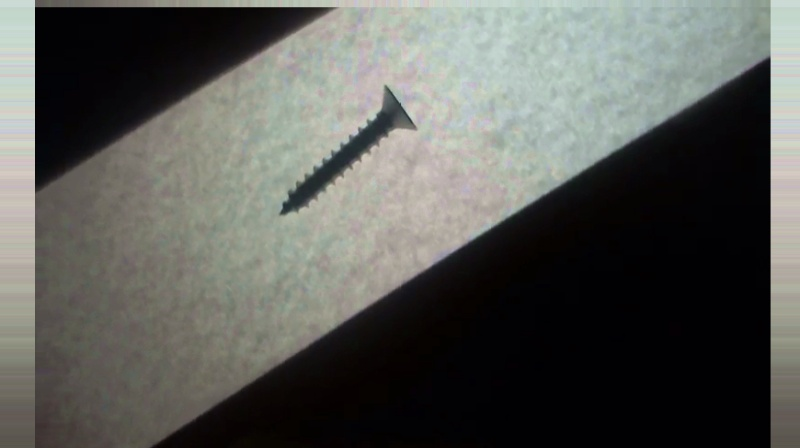S001: (275, 79, 420, 218)
